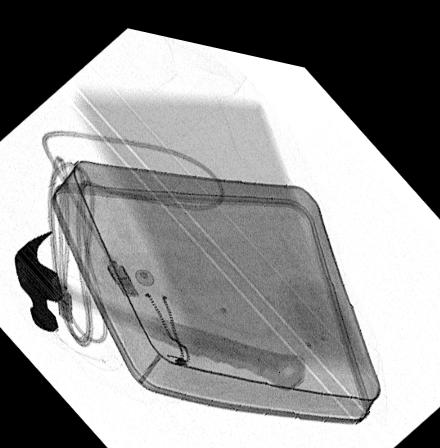Hammer: (13, 225, 306, 376)
